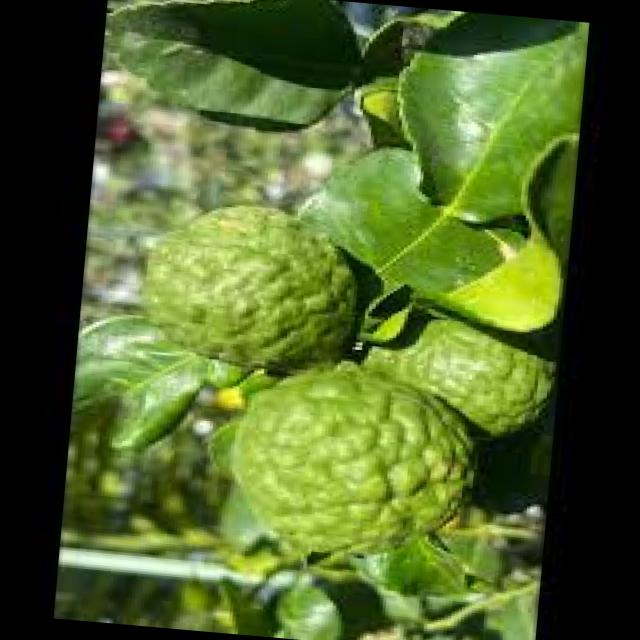Chuc: (214, 348, 480, 567), (132, 192, 366, 378), (351, 305, 558, 443)
